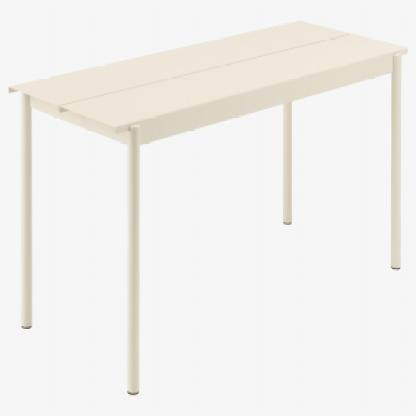table: (7, 17, 407, 394)
